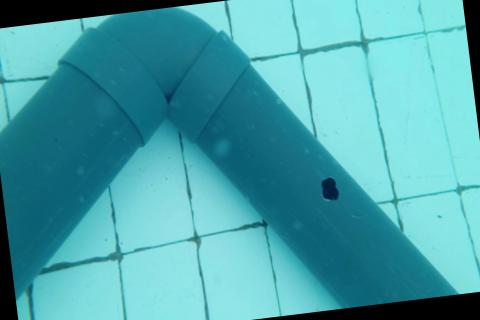kebocoran: (317, 173, 340, 203)
